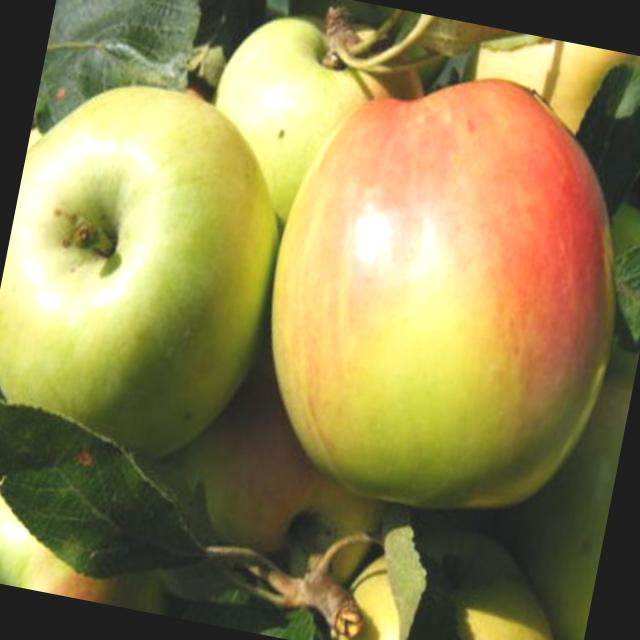Apple: (233, 41, 640, 540), (0, 67, 301, 468), (156, 369, 398, 622), (199, 0, 432, 238), (0, 445, 190, 616)
